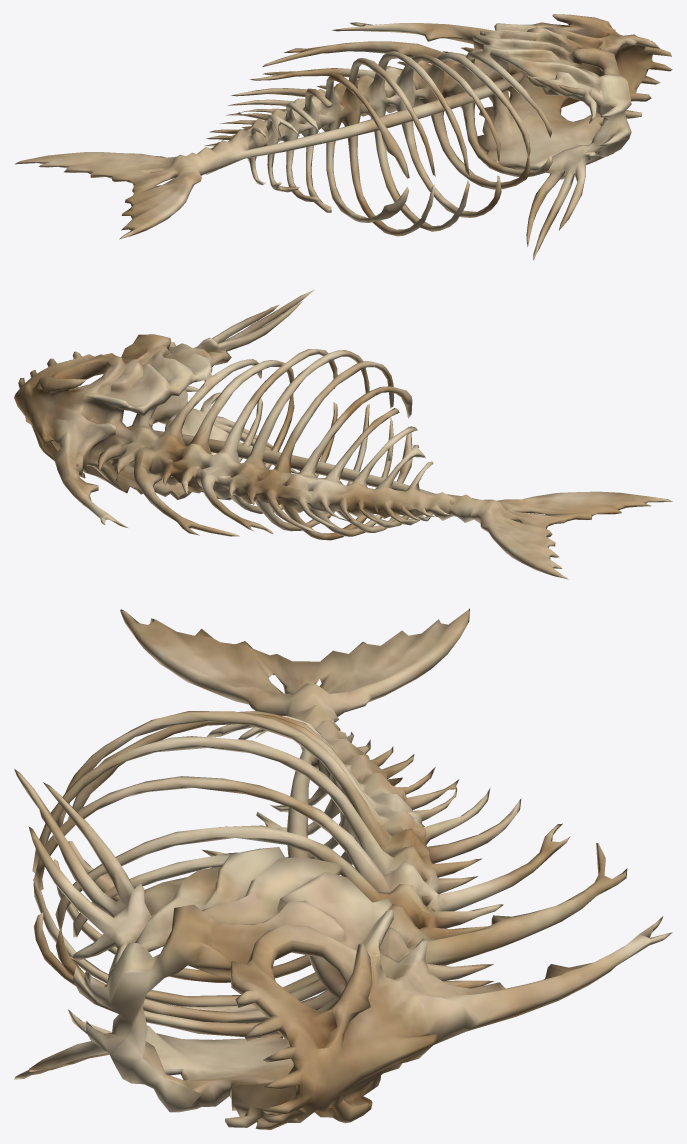
File: bone_cracked_xl.glb
3 views of the same model, one above another, from view 1: azimuth 30°, elevation 25°; view 2: azimuth 150°, elevation 25°; view 3: azimuth 270°, elevation 25° (orthographic). The views are drawn at different scales.
Visible parts, largest first — view 1: bone_cracked_xl; view 2: bone_cracked_xl; view 3: bone_cracked_xl.
Part boxes in pixels (<box>): bone_cracked_xl: <box>14,14,672,260</box>; bone_cracked_xl: <box>14,290,672,579</box>; bone_cracked_xl: <box>14,608,672,1129</box>.
Bounding box in the file's own units: 0.3 × 0.0883 × 0.1696.
1 material, 1 textured.
